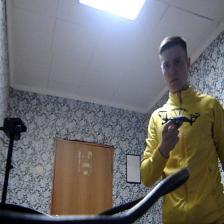drone: (157, 100, 203, 132)
